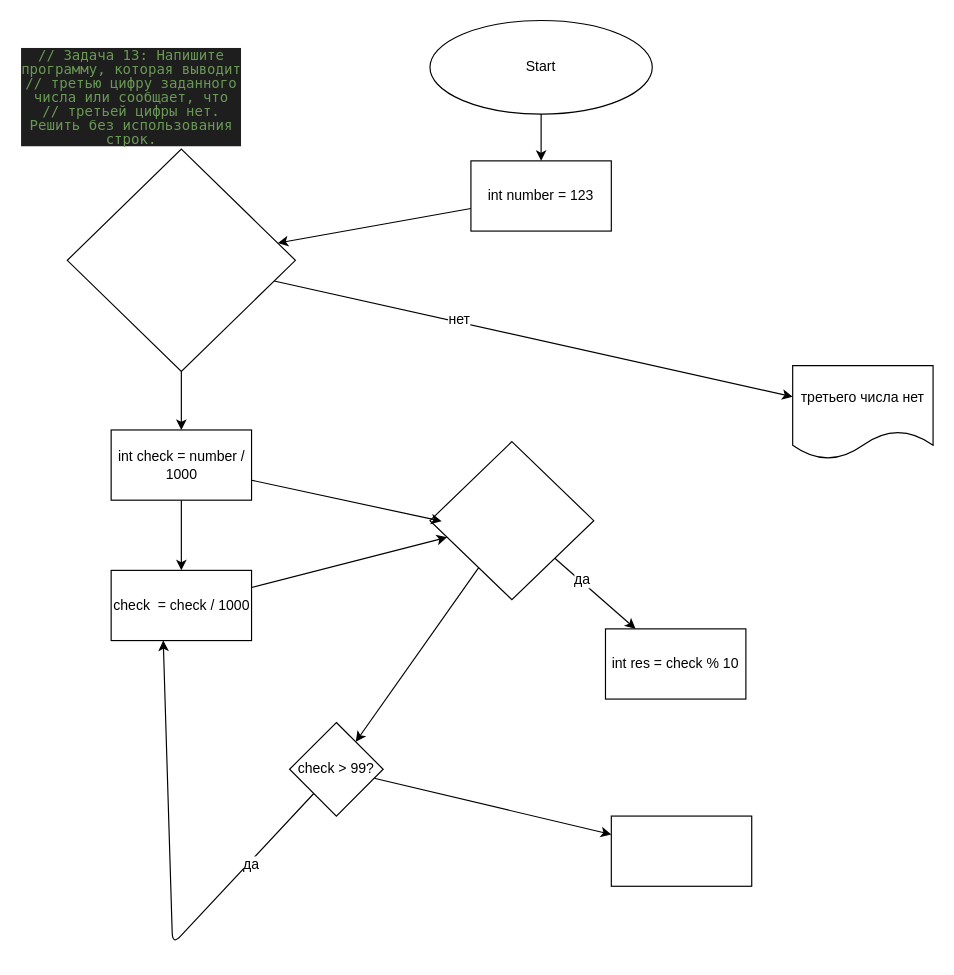
The diagram is 954 pixels wide and 975 high, and some of its shapes have lost their labels. The centre of each missing label's shape, as x and y in pixels:
check = check % 100: the point at 681,850
check == 0?: the point at 511,520
number > 99: the point at 180,259
